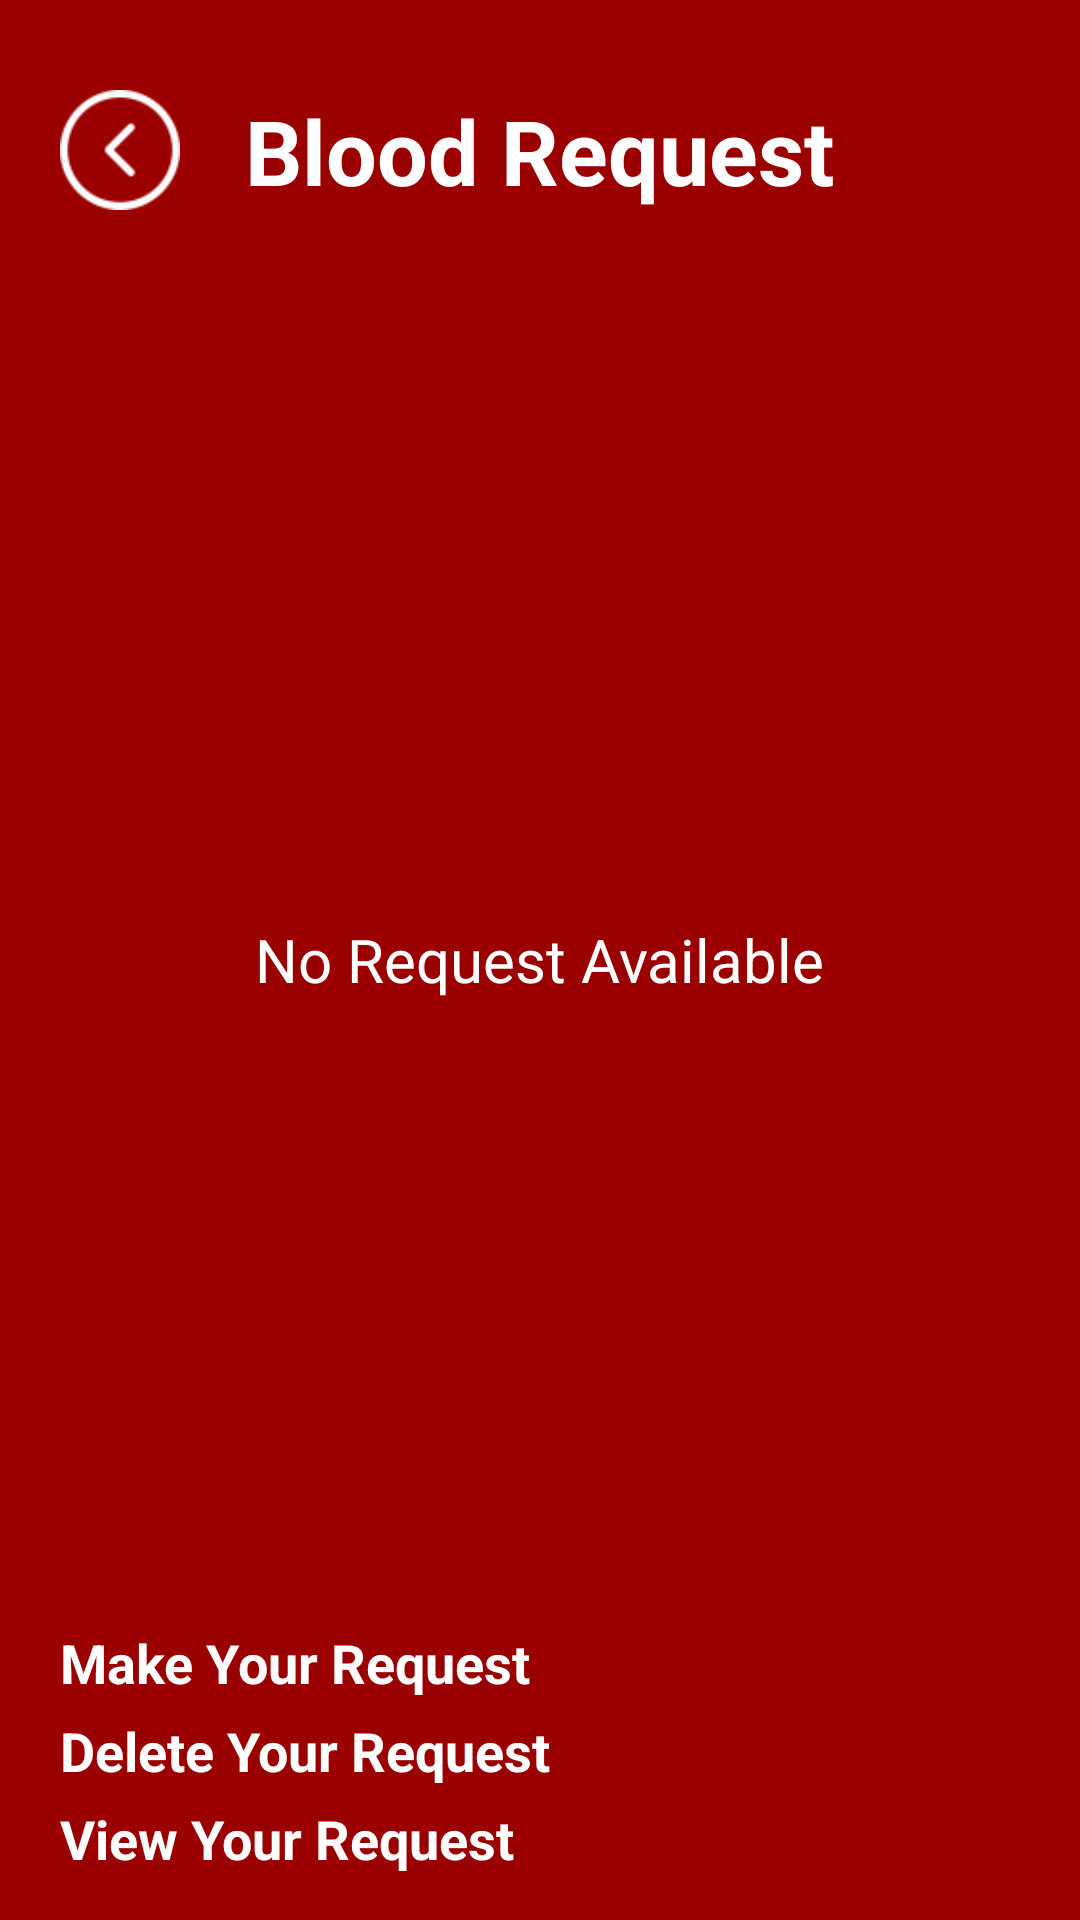

Icons on this 1080x1920 Android screen, each with its box as [left=x1, top=y1, right=x2, bottom=y2]:
back: [left=60, top=90, right=180, bottom=210]
